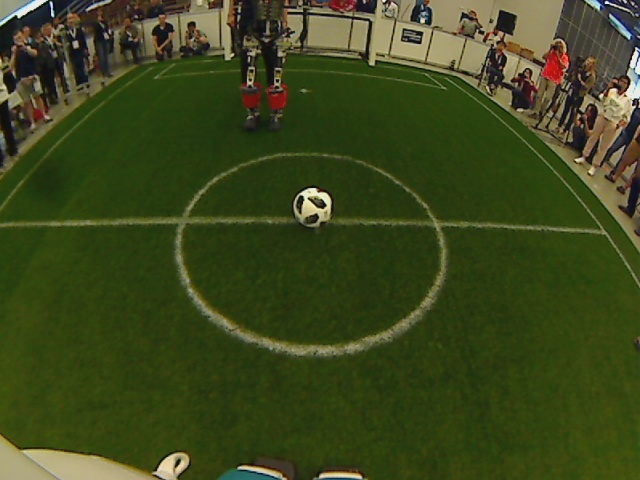ball: (289, 183, 337, 231)
